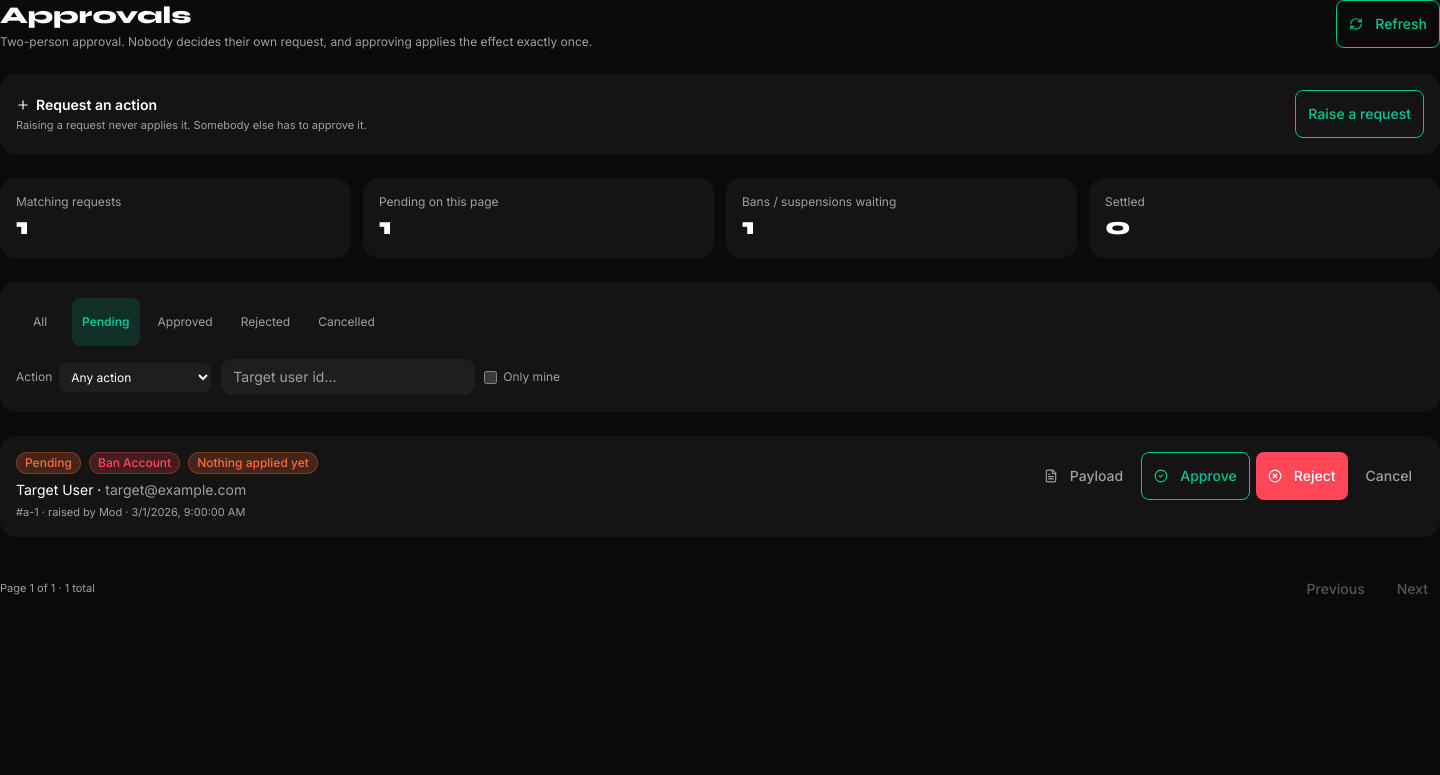
Test: AdminApprovals — raise a request › demands a target and a reason before a ban can be requested
Click the button "Raise a request" at (1360, 114), box [1295, 90, 1424, 138]
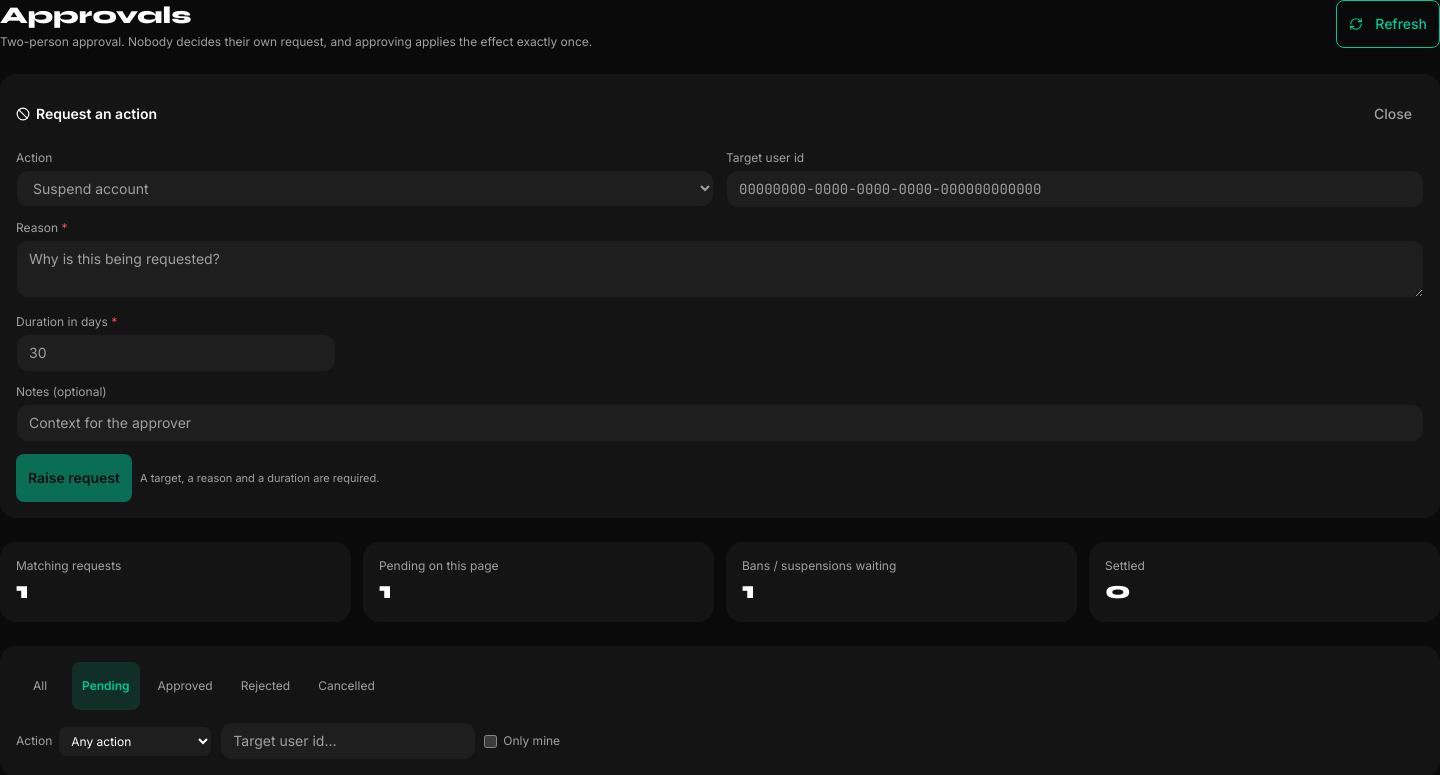
Result: the dropdown named "Requested action" is shown
Select "Ban account" in the dropdown named "Requested action" at (365, 188), box [16, 170, 714, 207]
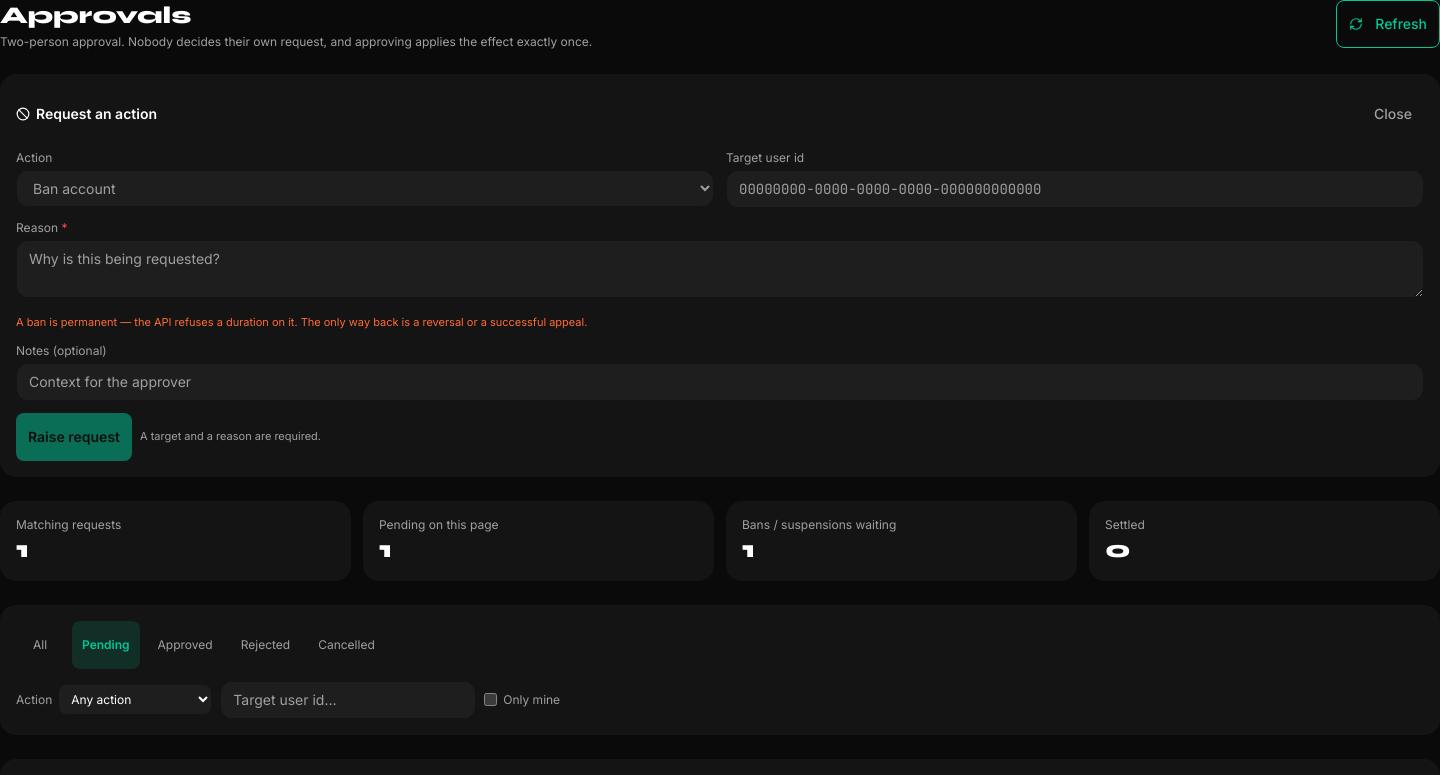
Result: the button "Raise request" is disabled at [16, 412, 132, 460]
Type "u-1" into the field named "Target user id for request" at (1075, 189), box [726, 170, 1424, 208]
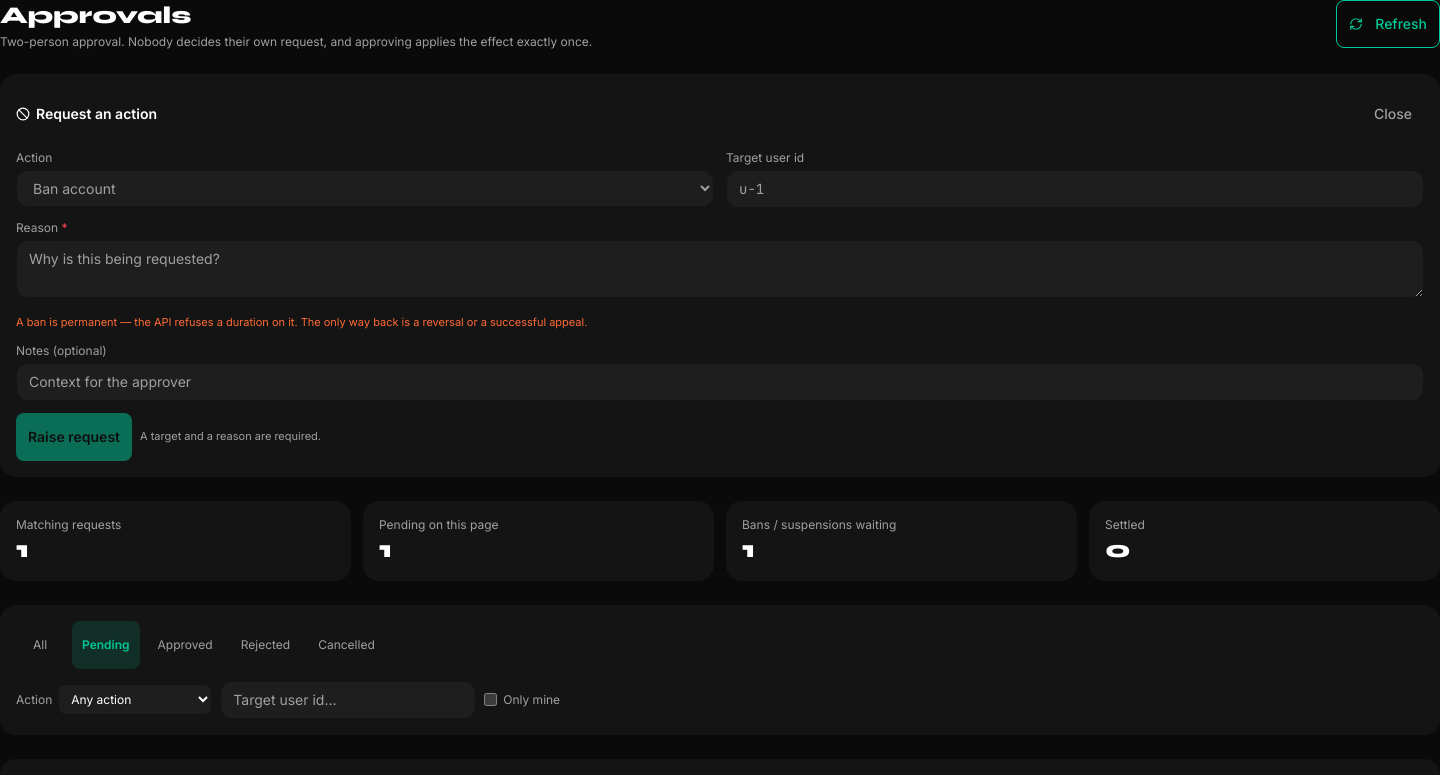
Result: the button "Raise request" is disabled at [16, 412, 132, 460]
Type "fraud ring" into the text box named "Request reason" at (720, 269), box [16, 240, 1424, 298]
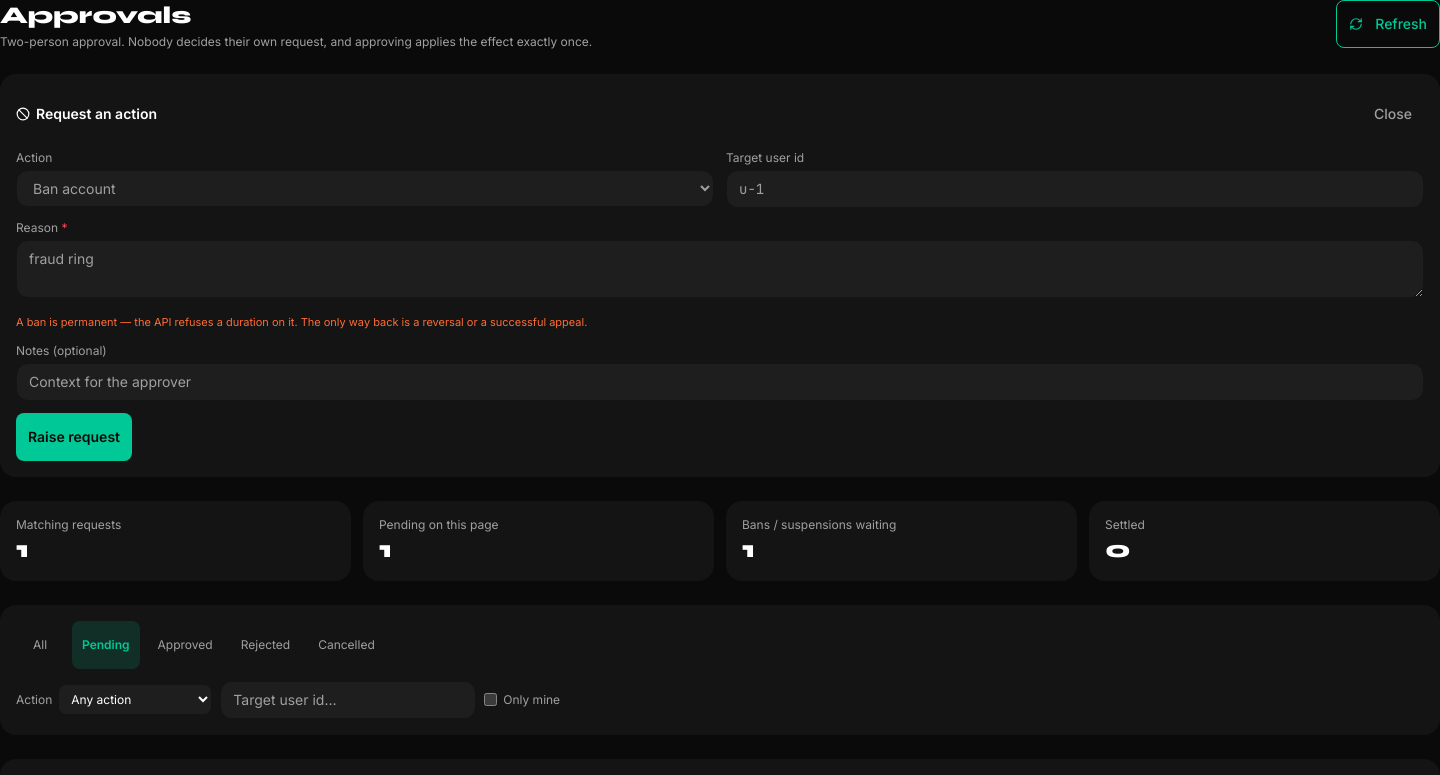
Result: the button "Raise request" is enabled at [16, 412, 132, 460]
